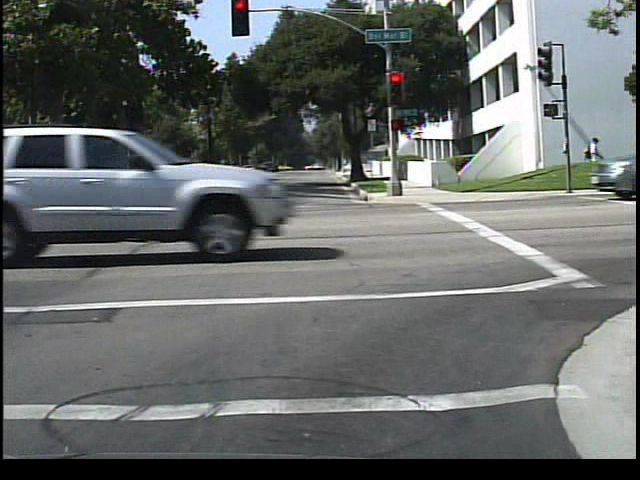person: (582, 128, 606, 184)
